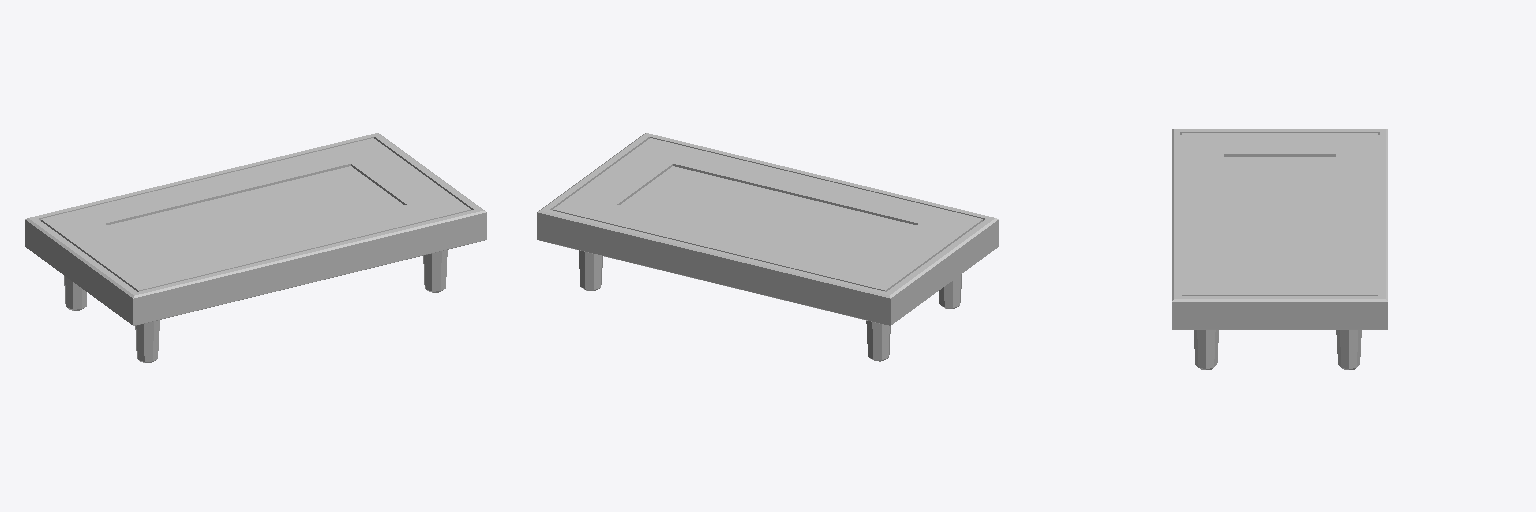
File: SM_MesadaA.obj
The picture shows the model from 3 angles: view 1: azimuth 30°, elevation 25°; view 2: azimuth 150°, elevation 25°; view 3: azimuth 270°, elevation 25°; orthographic projection.
Parts seen in each view (by area): view 1: MesadaA; view 2: MesadaA; view 3: MesadaA.
Boxes of the visible parts, x1=… form: MesadaA: x1=25, y1=133, x2=486, y2=362; MesadaA: x1=537, y1=133, x2=998, y2=361; MesadaA: x1=1172, y1=129, x2=1387, y2=369.
Size of the model in its own units: 8.52 by 1.92 by 4.53.